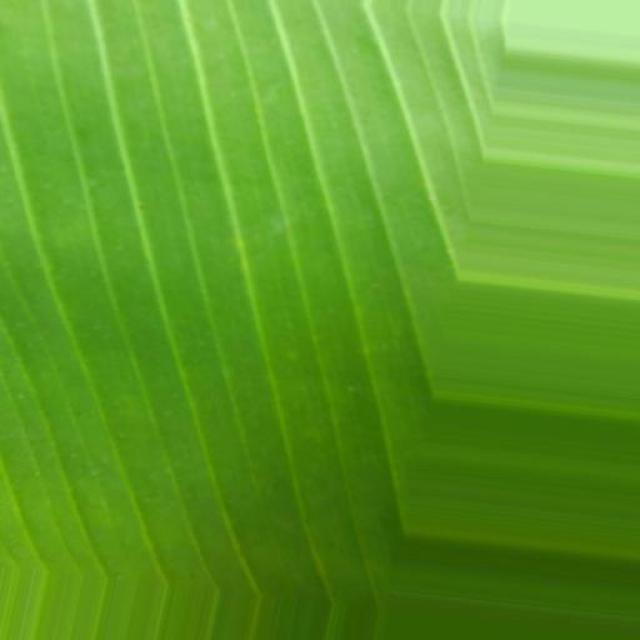Black_leaf_spot: (0, 0, 521, 544)
